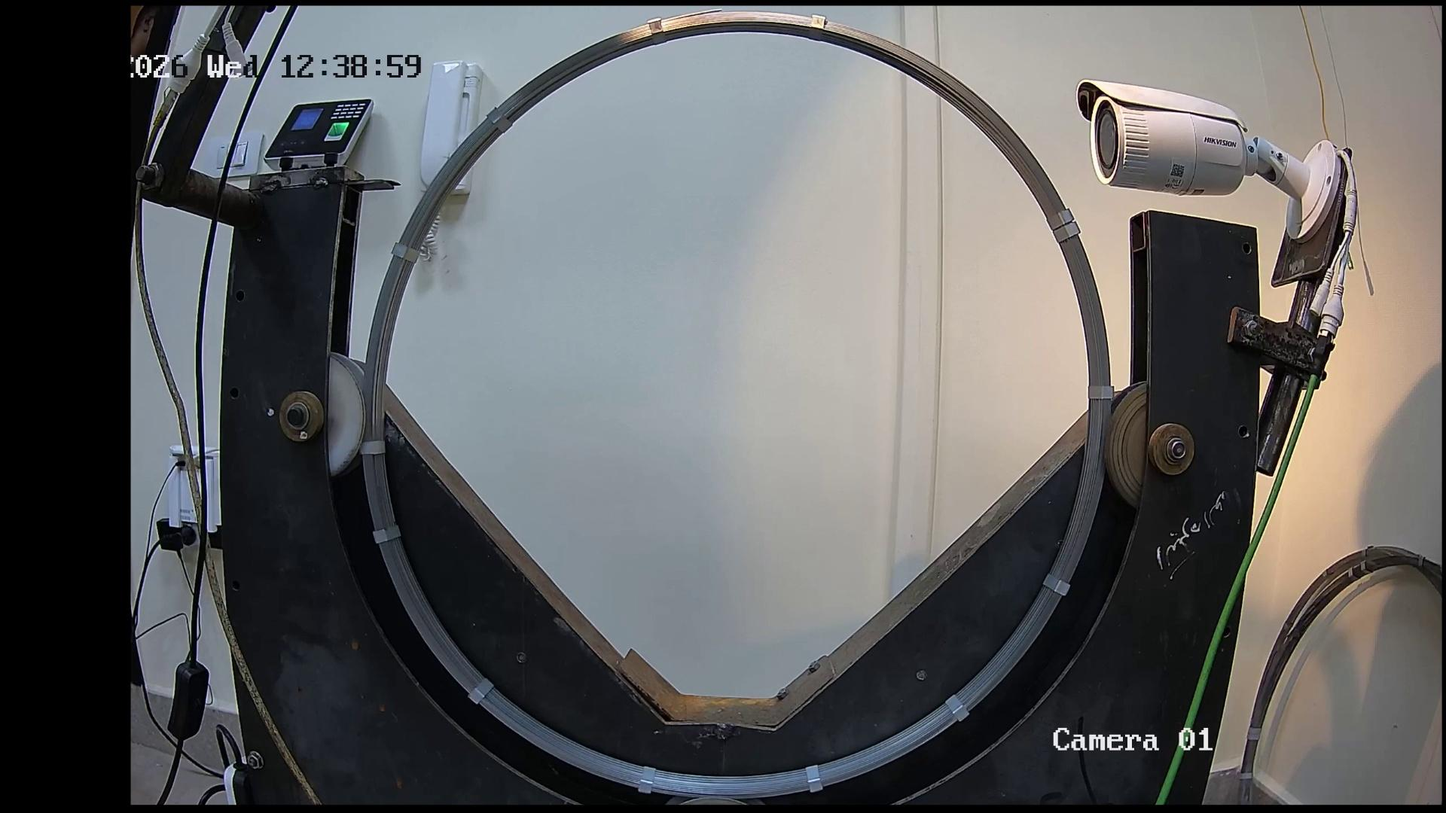clamp: (486, 106, 514, 134), (467, 677, 495, 705), (645, 16, 670, 46), (390, 241, 421, 265), (945, 694, 970, 722), (1053, 220, 1082, 244), (1043, 573, 1071, 597), (1046, 208, 1075, 231), (372, 525, 401, 545), (808, 13, 827, 42), (637, 765, 656, 794), (805, 764, 824, 793), (1087, 385, 1115, 401), (359, 441, 386, 456)
